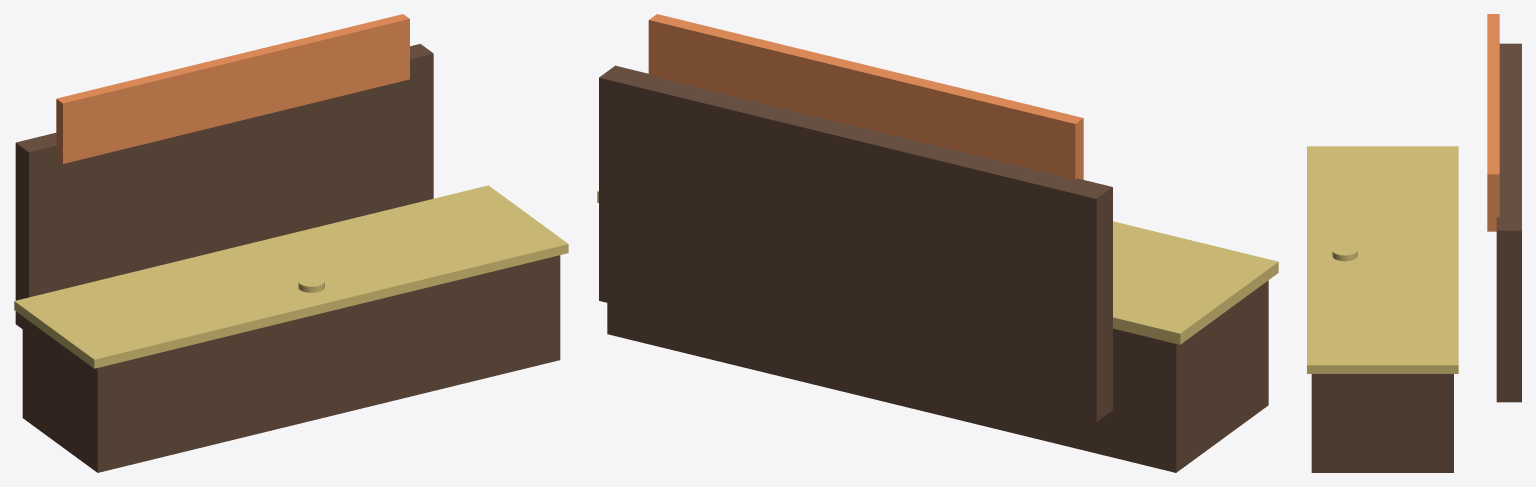
The model's file is lobby_reception_desk.fbx.
3 views of the same model, side by side, from view 1: azimuth 30°, elevation 25°; view 2: azimuth 150°, elevation 25°; view 3: azimuth 270°, elevation 25° (orthographic). The views are drawn at different scales.
Visible parts, largest first — view 1: ReceptionCounter, KeyCubbyRack, CountertopTrim, HotelHermesSignPlaque; view 2: KeyCubbyRack, ReceptionCounter, HotelHermesSignPlaque, CountertopTrim; view 3: CountertopTrim, ReceptionCounter, KeyCubbyRack, HotelHermesSignPlaque, CheckInBell.
Part boxes in pixels (<box>): ReceptionCounter: <box>22,255,560,472</box>; KeyCubbyRack: <box>15,44,433,328</box>; CountertopTrim: <box>14,185,568,368</box>; HotelHermesSignPlaque: <box>56,14,409,163</box>; KeyCubbyRack: <box>599,65,1112,421</box>; ReceptionCounter: <box>607,280,1268,472</box>; HotelHermesSignPlaque: <box>648,14,1083,179</box>; CountertopTrim: <box>597,190,1278,344</box>; CountertopTrim: <box>1307,146,1458,373</box>; ReceptionCounter: <box>1311,374,1453,472</box>; KeyCubbyRack: <box>1496,43,1521,402</box>; HotelHermesSignPlaque: <box>1487,14,1499,231</box>; CheckInBell: <box>1332,245,1357,261</box>.
Bounding box in the file's own units: 16.4 × 9.5 × 6.8.
